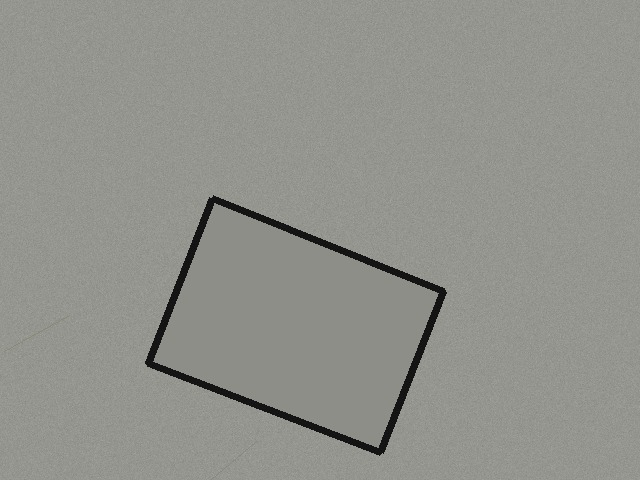parking_area: (148, 198, 443, 452)
